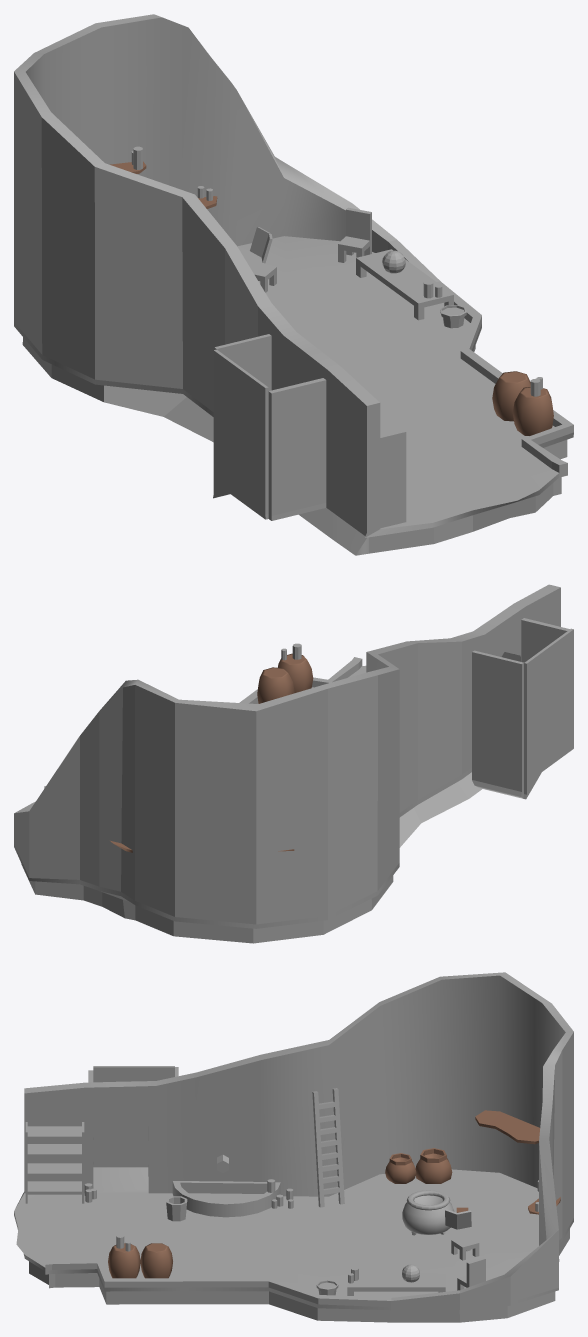
Rendered from Cocina.fbx.
3 renders of one model, top to bottom at view 1: azimuth 30°, elevation 25°; view 2: azimuth 150°, elevation 25°; view 3: azimuth 270°, elevation 25°, orthographic. The views are drawn at different scales.
Parts seen in each view (by area): view 1: Fondo, barriles, Armario, Mesa, Sillas; view 2: Fondo, barriles; view 3: Fondo, Armario, Fuente, escalera, barriles, tinajas, Caldero, Mesa, Estanteria, Sillas, Velas1, Cubo (+1 smaller).
Part boxes in pixels (box(x1,y1,x2,y2)): Fondo: box(14, 14, 573, 555); barriles: box(492, 371, 553, 435); Armario: box(380, 418, 406, 528); Mesa: box(356, 249, 453, 320); Sillas: box(249, 207, 371, 292); Fondo: box(14, 584, 573, 943); barriles: box(257, 653, 313, 703); Fondo: box(14, 972, 573, 1322); Armario: box(25, 1122, 84, 1203); Fuente: box(172, 1181, 280, 1217); escalera: box(312, 1088, 344, 1207); barriles: box(108, 1243, 172, 1278); tinajas: box(385, 1148, 452, 1183); Caldero: box(402, 1190, 454, 1235); Mesa: box(347, 1273, 445, 1295); Estanteria: box(475, 1110, 540, 1144); Sillas: box(451, 1235, 485, 1290); Velas1: box(84, 1179, 358, 1283); Cubo: box(166, 1196, 187, 1221).
Bounding box in the file's own units: 10.03 × 7.14 × 16.73.
